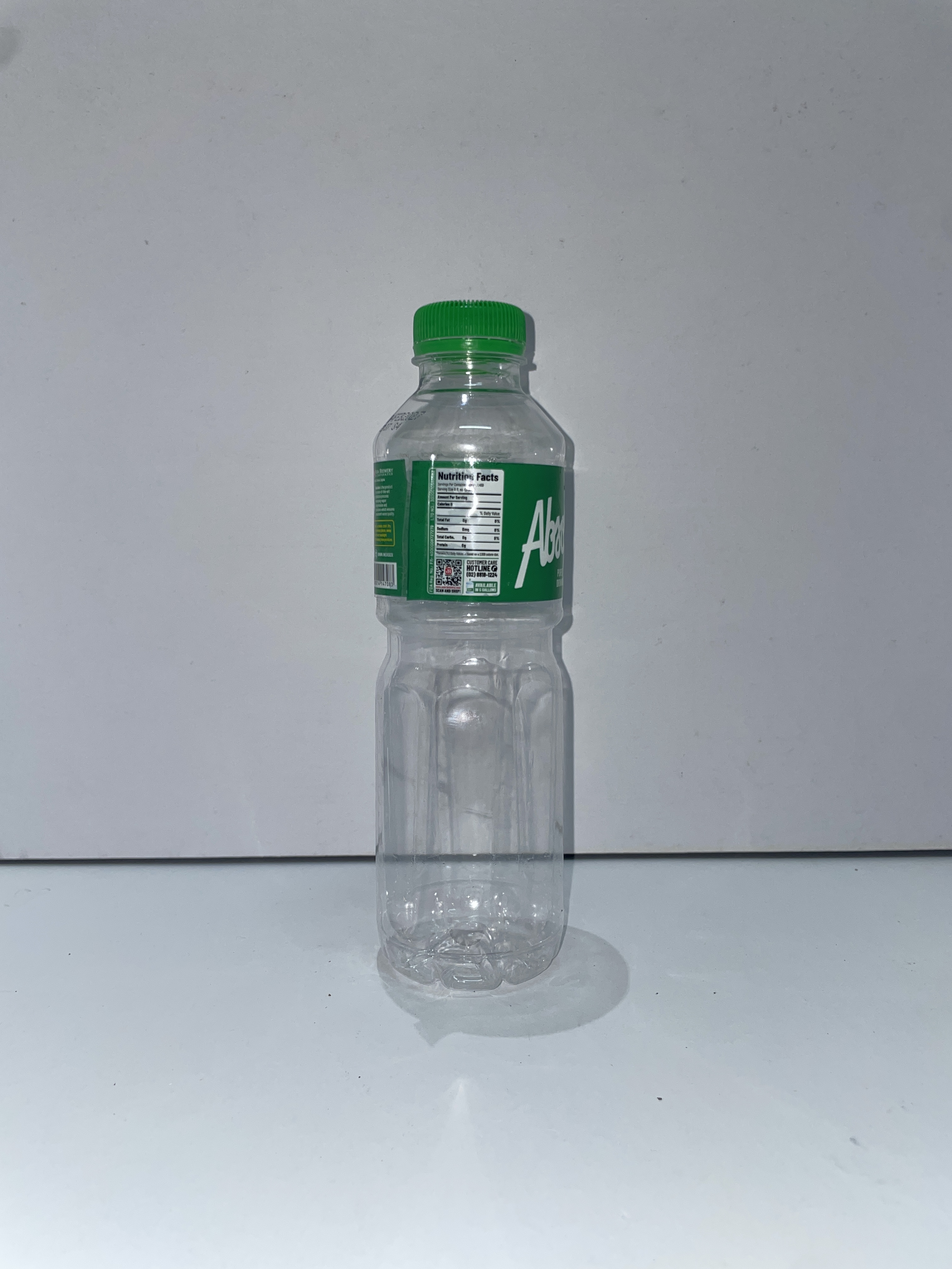Absolute 350ml: (374, 301, 567, 990)
